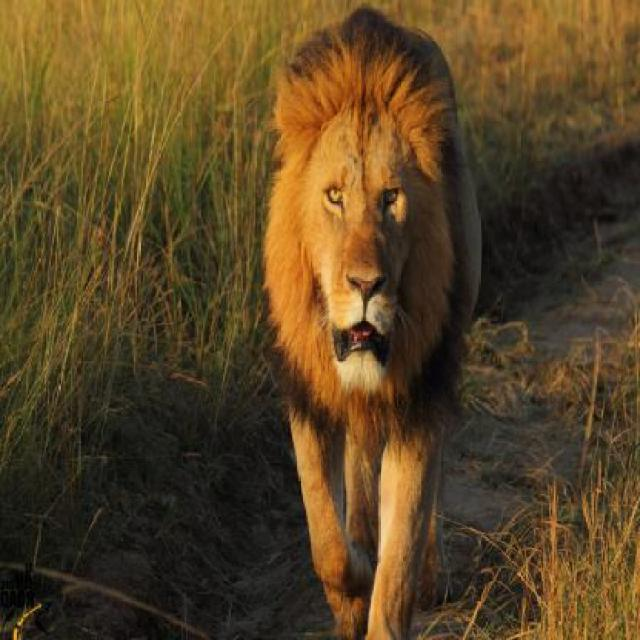Lion: (232, 3, 488, 639)
